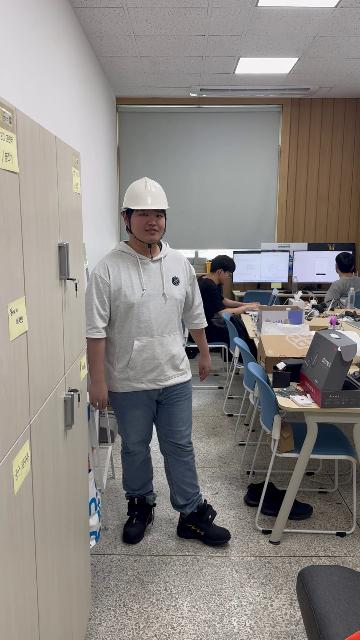helmet_worn: (120, 176, 171, 211)
shoe_not_worn: (259, 483, 311, 518), (244, 480, 278, 508)
shoe_worn: (176, 499, 230, 546), (122, 497, 156, 545)
vest_not_worn: (101, 248, 193, 392)
